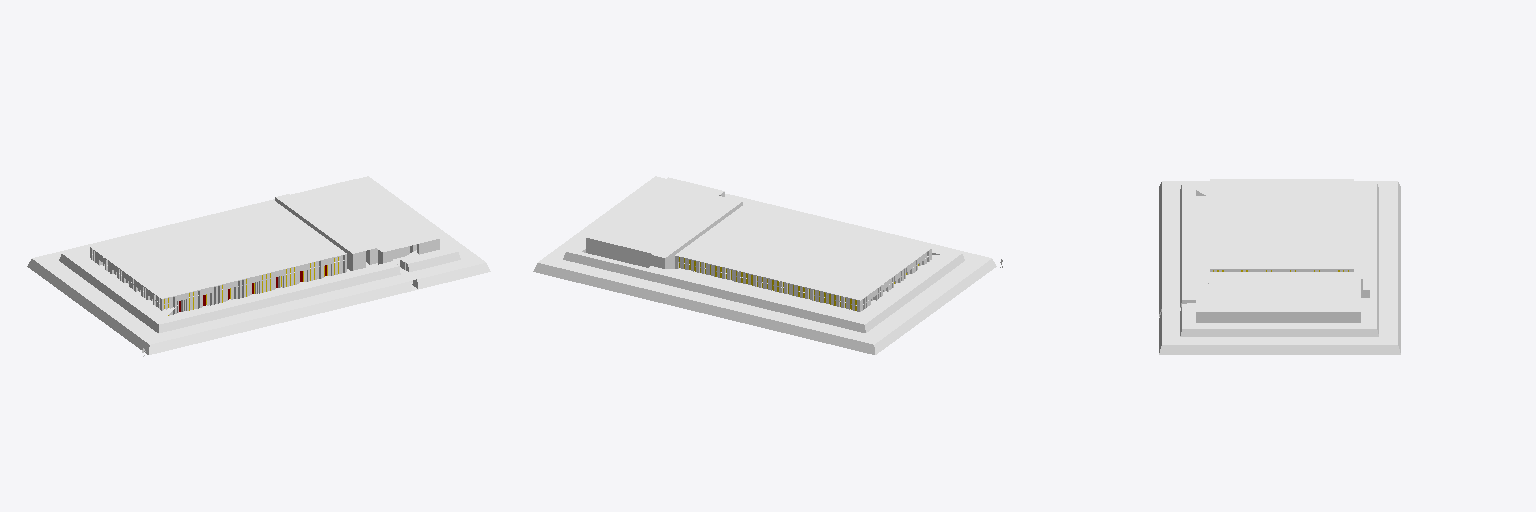
3 renders of one model, left to right at view 1: azimuth 30°, elevation 25°; view 2: azimuth 150°, elevation 25°; view 3: azimuth 270°, elevation 25°, orthographic.
Visible parts, largest first — view 1: Mesh1 Model; view 2: Mesh1 Model; view 3: Mesh1 Model.
Part boxes in pixels (bbox=[...]): Mesh1 Model: bbox=[27, 176, 490, 354]; Mesh1 Model: bbox=[533, 176, 996, 354]; Mesh1 Model: bbox=[1159, 179, 1400, 354].
Bounding box in the file's own units: 66.38 × 5.11 × 40.
5 materials, 3 textured.